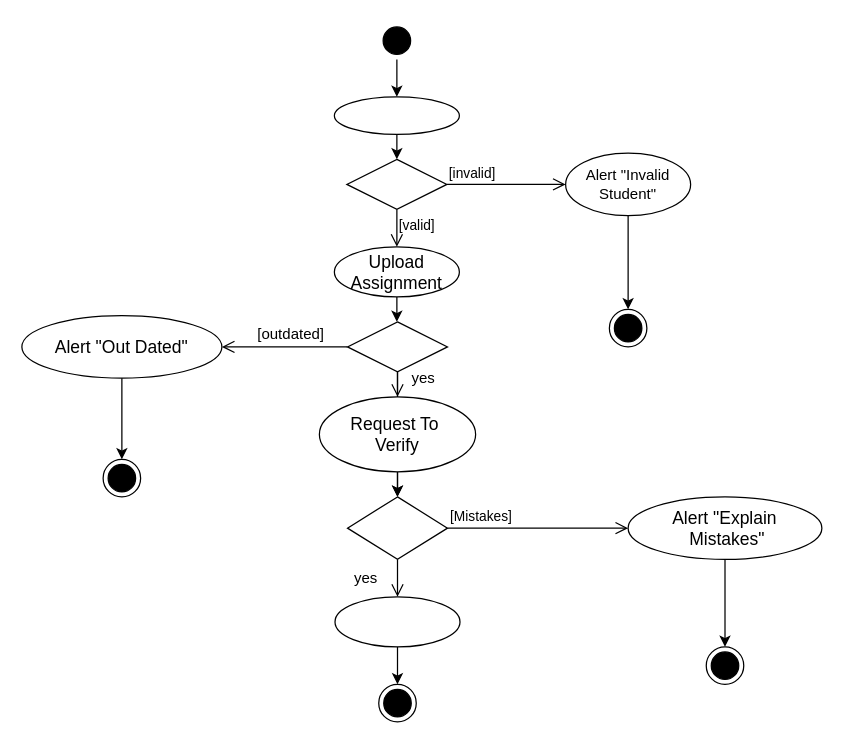
The diagram is 844 pixels wide and 744 high, and some of its shapes have lost their labels. The shapes that lost their labels are listed below. From the top down, each one's centre as x and y in pixels, then its label:
the point at 396,115: Student Login
the point at 397,621: Done Verification
